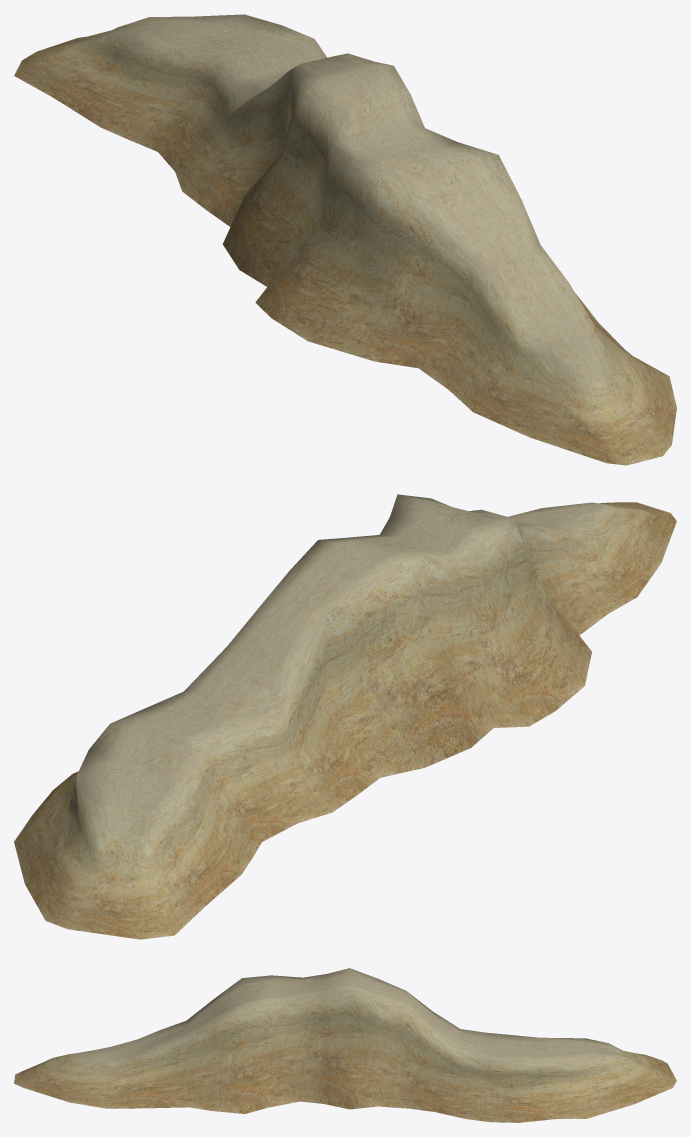
The model's file is rock_beach_spine_a3_l0.fbx.
3 renders of one model, top to bottom at view 1: azimuth 30°, elevation 25°; view 2: azimuth 150°, elevation 25°; view 3: azimuth 270°, elevation 25°, orthographic. The views are drawn at different scales.
Visible parts, largest first — view 1: mesh_node; view 2: mesh_node; view 3: mesh_node.
Boxes of the visible parts, <box> form: mesh_node: <box>14,14,676,465</box>; mesh_node: <box>14,494,676,939</box>; mesh_node: <box>14,968,676,1122</box>.
Bounding box in the file's own units: 7.63 × 4.34 × 25.64.
